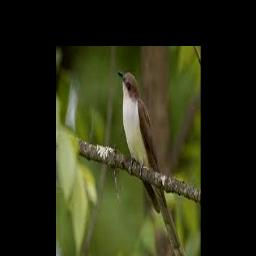Cuckoo: (117, 70, 189, 256)
